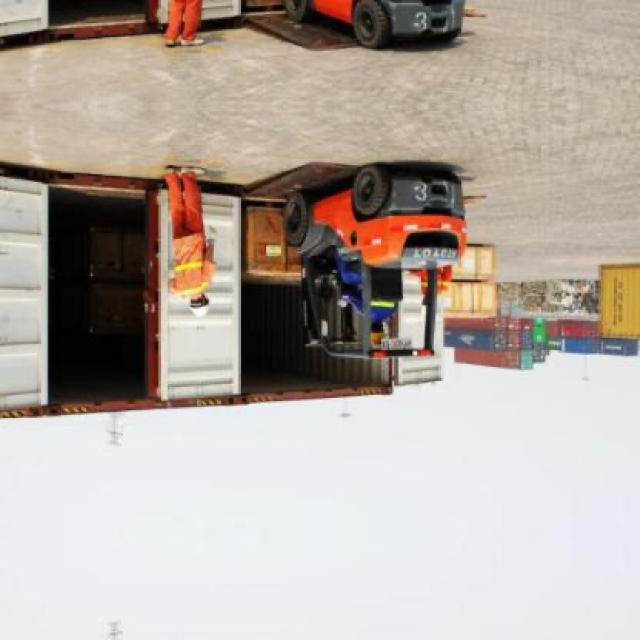con casco: (164, 276, 226, 331)
